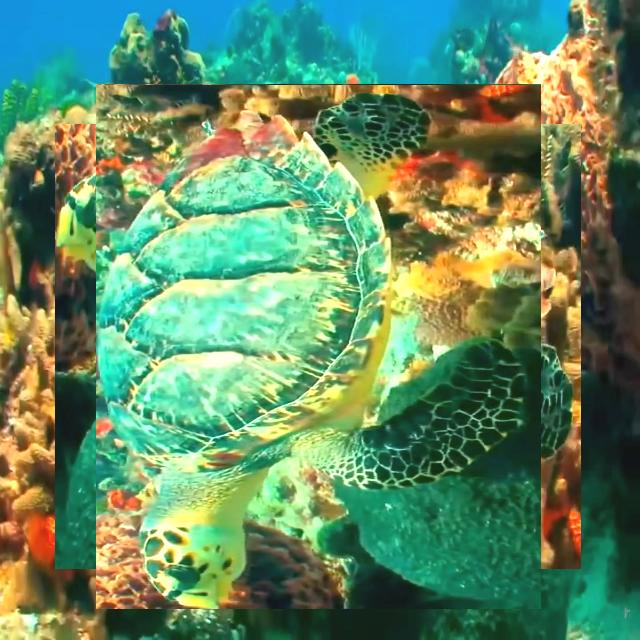Sea turtle: (76, 104, 561, 589)
